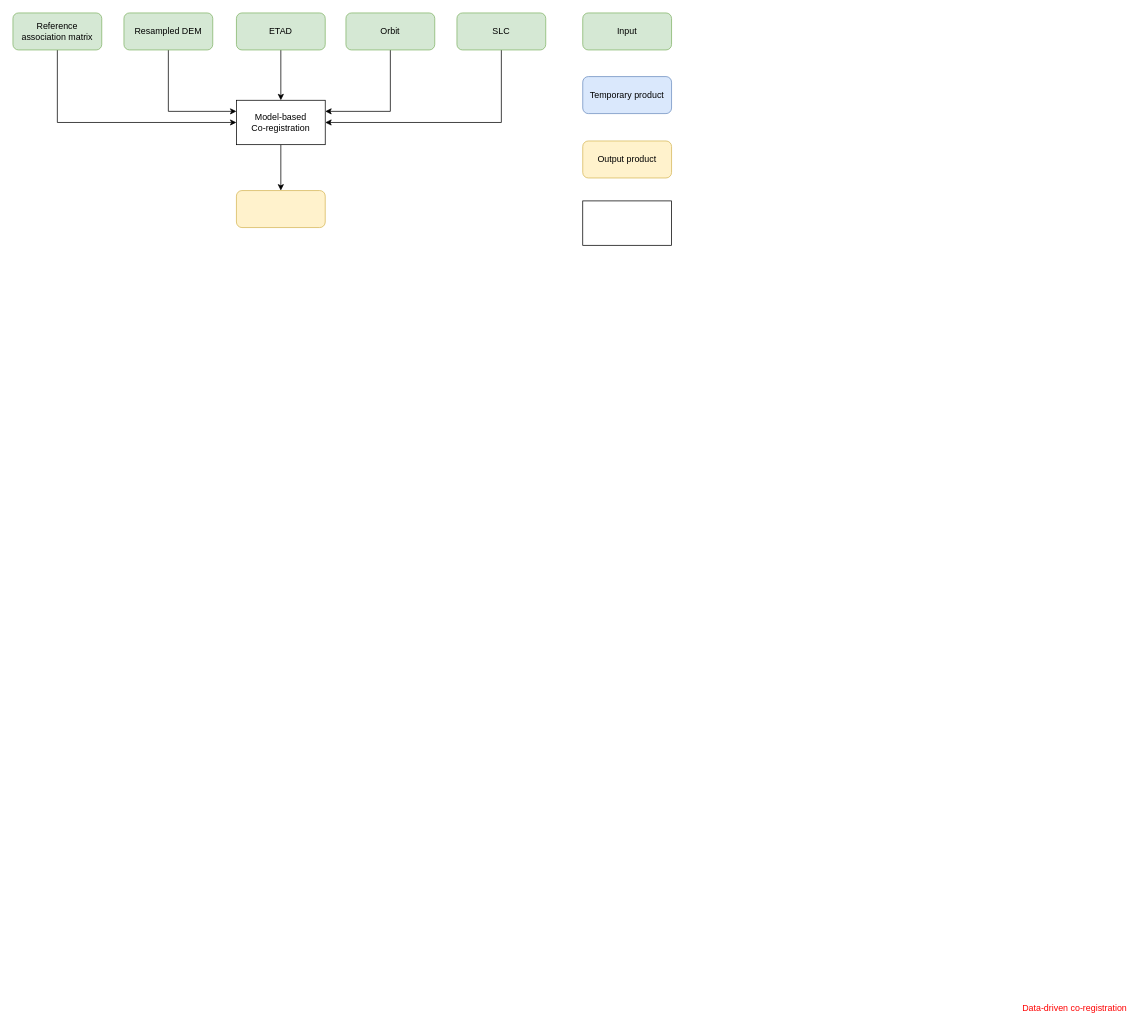
Image size: 1147x1032. Some labels were removed from this diagram. Here are the shapes that lost their labels. From the top down, the centre of each, then its label:
At point 280,209: "CSLC".
At point 627,222: "Processing block".
